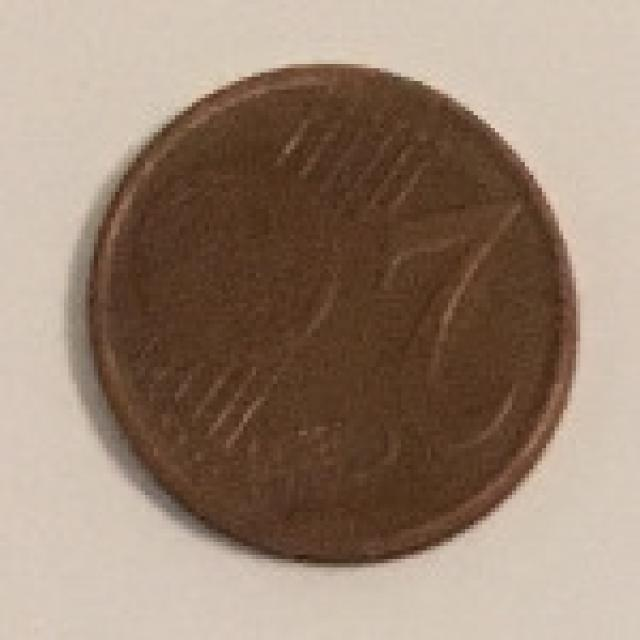2c: (76, 42, 584, 580)
